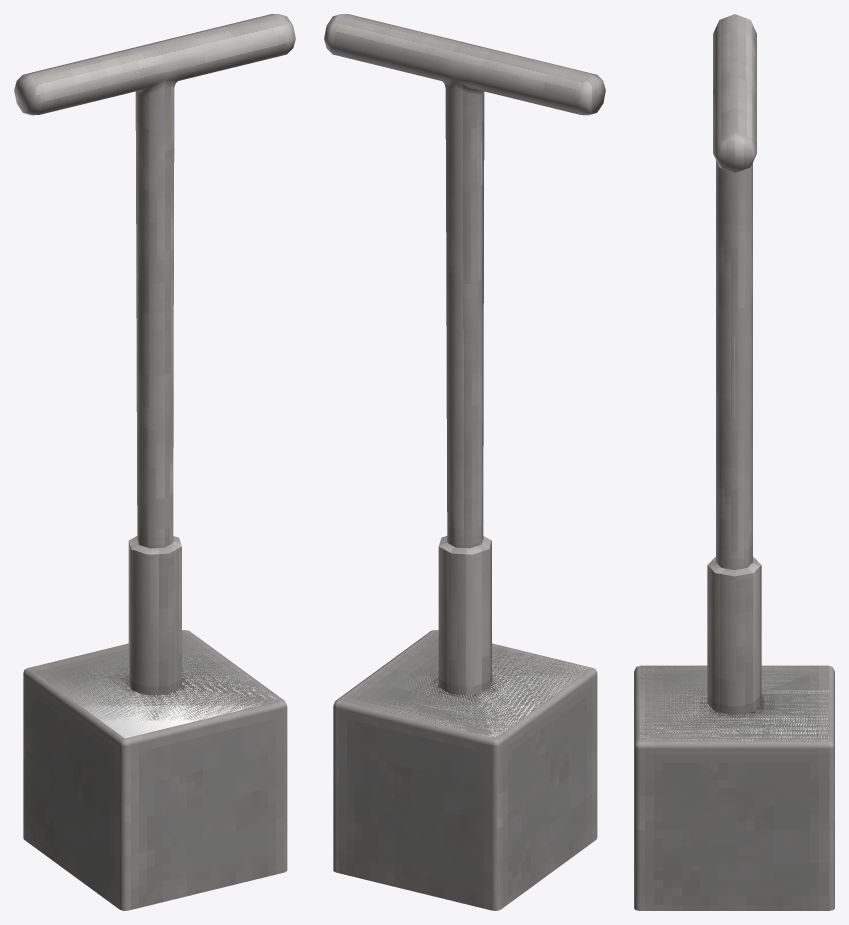
File: objects_un_dlc2_pobjperch01.gltf
3 renders of one model, left to right at view 1: azimuth 30°, elevation 25°; view 2: azimuth 150°, elevation 25°; view 3: azimuth 270°, elevation 25°, orthographic.
Parts seen in each view (by area): view 1: concretebase_shape:objects_un_dlc2_pobjperch01_01, stand_shape:objects_un_dlc2_pobjperch01_01, shadow_model_shape:objects_un_dlc2_pobjperch01_shadow_mat; view 2: concretebase_shape:objects_un_dlc2_pobjperch01_01, stand_shape:objects_un_dlc2_pobjperch01_01, shadow_model_shape:objects_un_dlc2_pobjperch01_shadow_mat; view 3: concretebase_shape:objects_un_dlc2_pobjperch01_01, stand_shape:objects_un_dlc2_pobjperch01_01, shadow_model_shape:objects_un_dlc2_pobjperch01_shadow_mat.
Part boxes in pixels (bbox=[...]): concretebase_shape:objects_un_dlc2_pobjperch01_01: bbox=[23, 630, 287, 910]; stand_shape:objects_un_dlc2_pobjperch01_01: bbox=[14, 14, 295, 695]; shadow_model_shape:objects_un_dlc2_pobjperch01_shadow_mat: bbox=[30, 631, 276, 738]; concretebase_shape:objects_un_dlc2_pobjperch01_01: bbox=[333, 630, 597, 910]; stand_shape:objects_un_dlc2_pobjperch01_01: bbox=[324, 14, 605, 695]; shadow_model_shape:objects_un_dlc2_pobjperch01_shadow_mat: bbox=[339, 142, 590, 737]; concretebase_shape:objects_un_dlc2_pobjperch01_01: bbox=[634, 665, 834, 910]; stand_shape:objects_un_dlc2_pobjperch01_01: bbox=[707, 14, 761, 714]; shadow_model_shape:objects_un_dlc2_pobjperch01_shadow_mat: bbox=[640, 337, 828, 740].
Size of what is drawn, in the model's own units: 0.5103 by 1.5 by 0.3411.
2 materials, 1 textured.
